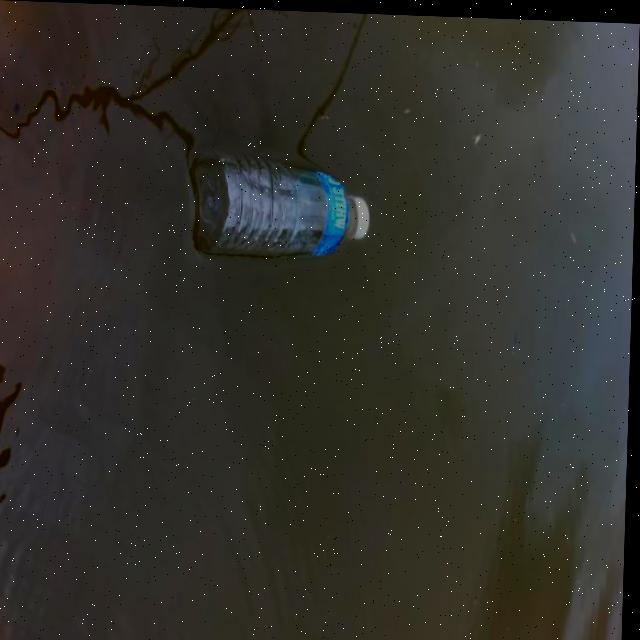waterbottle: (181, 126, 396, 280)
